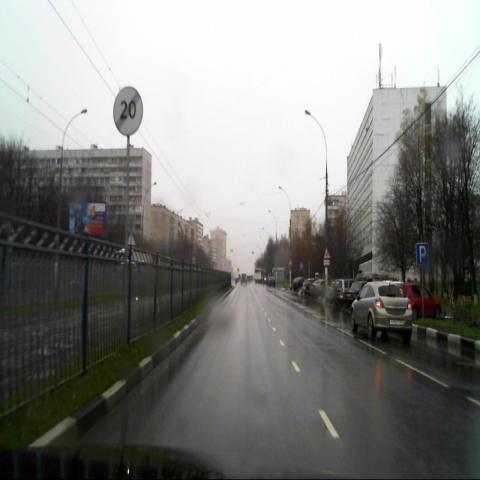3_25: (114, 88, 142, 136)
